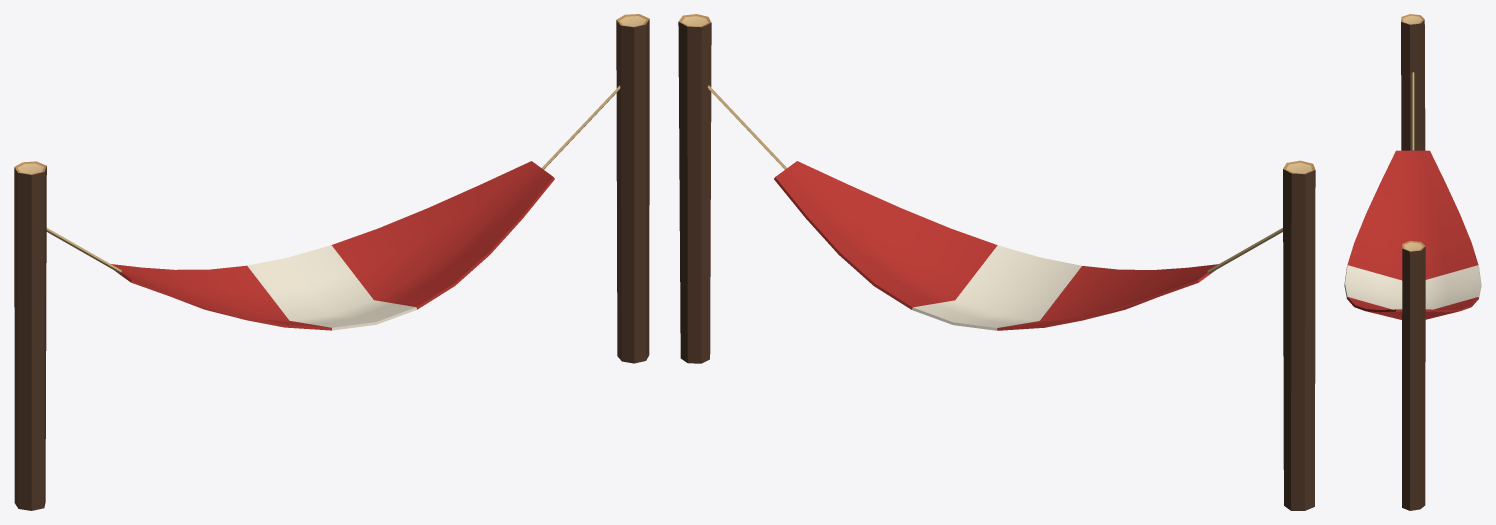
The model's file is SM_Hammock.glb.
3 views of the same model, side by side, from view 1: azimuth 30°, elevation 25°; view 2: azimuth 150°, elevation 25°; view 3: azimuth 270°, elevation 25° (orthographic). The views are drawn at different scales.
Visible parts, largest first — view 1: SM_Hammock; view 2: SM_Hammock; view 3: SM_Hammock.
Boxes of the visible parts, x1,y1,x2,y2 form: SM_Hammock: (14,14,649,510); SM_Hammock: (678,14,1315,510); SM_Hammock: (1344,14,1481,510).
Size of the model in its own units: 3.14 by 1.6 by 0.7672.
Materials: 1 (1 with a texture image).
